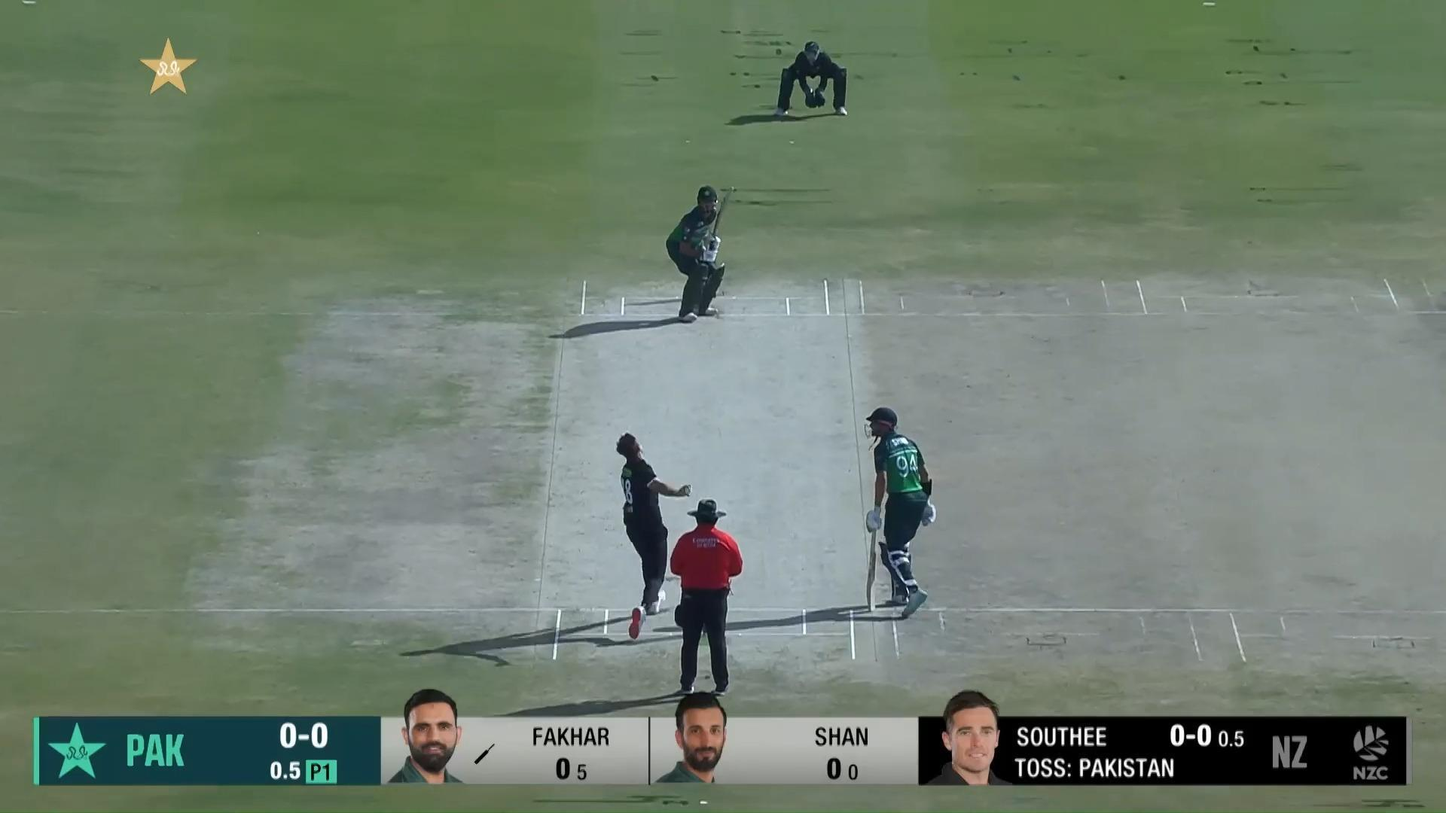BM 1: (666, 186, 734, 322)
BO: (615, 432, 693, 637)
